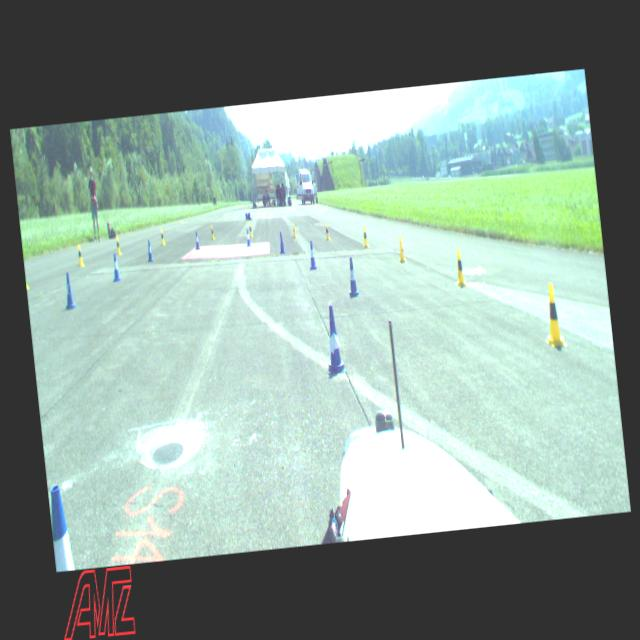blue_cone: (48, 486, 75, 570), (320, 304, 346, 373), (346, 257, 360, 297), (62, 272, 76, 309), (306, 240, 318, 270), (111, 252, 121, 281), (146, 239, 154, 262), (277, 232, 285, 254), (193, 231, 200, 249), (245, 228, 251, 246)
yellow_cone: (540, 282, 566, 348), (454, 248, 466, 286), (396, 234, 406, 263), (361, 225, 369, 248), (76, 244, 84, 266), (115, 236, 122, 254), (324, 222, 330, 240), (160, 228, 166, 245), (208, 224, 214, 240), (291, 222, 297, 238), (248, 222, 252, 238)
